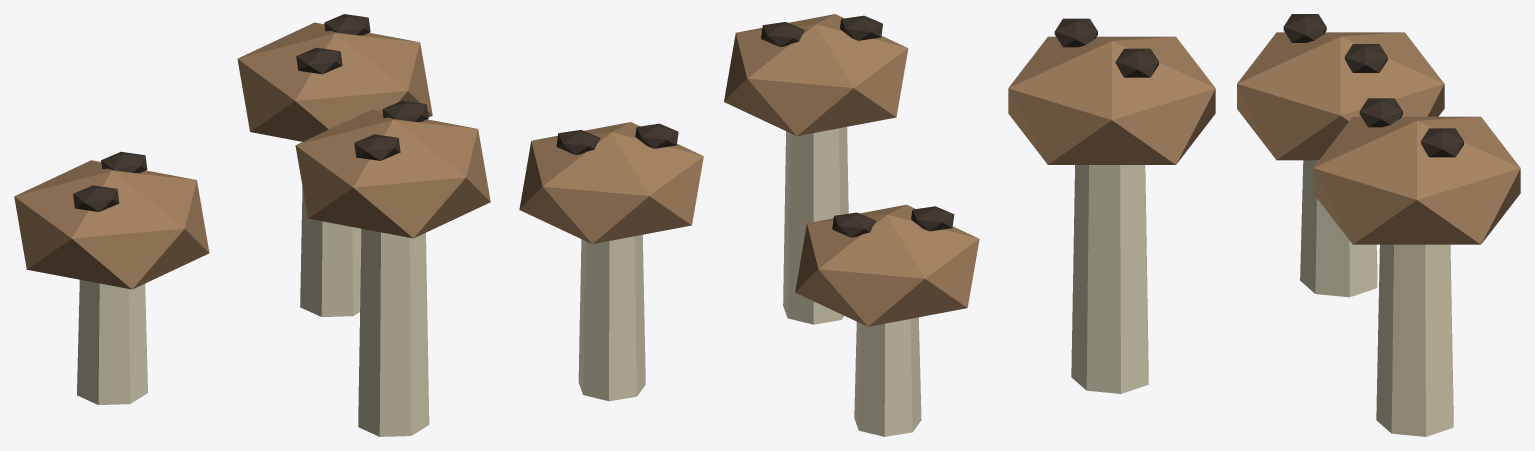
Rendered from CC_CropFungus_Pest.fbx.
3 renders of one model, left to right at view 1: azimuth 30°, elevation 25°; view 2: azimuth 150°, elevation 25°; view 3: azimuth 270°, elevation 25°, orthographic. The views are drawn at different scales.
Parts seen in each view (by area): view 1: Cap.011, Cap.009, Cap.010, Stem.015, Stem.013, Stem.014, Disease spot.004, Disease spot, Disease spot.002, Disease spot.003, Disease spot.005, Disease spot.001; view 2: Cap.009, Cap.010, Cap.011, Stem.014, Stem.015, Stem.013, Disease spot.002, Disease spot, Disease spot.004, Disease spot.001, Disease spot.005, Disease spot.003; view 3: Cap.010, Cap.011, Cap.009, Stem.015, Stem.014, Stem.013, Disease spot.003, Disease spot.005, Disease spot.001, Disease spot.004, Disease spot.002, Disease spot.
Boxes of the visible parts, x1=… form: Cap.011: x1=295, y1=109, x2=490, y2=238; Cap.009: x1=14, y1=160, x2=209, y2=289; Cap.010: x1=237, y1=22, x2=432, y2=141; Stem.015: x1=358, y1=228, x2=429, y2=436; Stem.013: x1=77, y1=280, x2=147, y2=404; Stem.014: x1=300, y1=186, x2=361, y2=316; Disease spot.004: x1=354, y1=134, x2=400, y2=160; Disease spot: x1=73, y1=185, x2=119, y2=211; Disease spot.002: x1=296, y1=47, x2=342, y2=74; Disease spot.003: x1=324, y1=14, x2=370, y2=35; Disease spot.005: x1=382, y1=100, x2=428, y2=121; Disease spot.001: x1=101, y1=151, x2=147, y2=173; Cap.009: x1=795, y1=204, x2=979, y2=326; Cap.010: x1=519, y1=122, x2=703, y2=243; Cap.011: x1=724, y1=14, x2=908, y2=135; Stem.014: x1=578, y1=235, x2=645, y2=401; Stem.015: x1=783, y1=127, x2=848, y2=324; Stem.013: x1=854, y1=317, x2=921, y2=436; Disease spot.002: x1=635, y1=123, x2=678, y2=148; Disease spot: x1=911, y1=206, x2=954, y2=231; Disease spot.004: x1=840, y1=15, x2=882, y2=40; Disease spot.001: x1=832, y1=212, x2=875, y2=237; Disease spot.005: x1=761, y1=22, x2=804, y2=46; Disease spot.003: x1=556, y1=130, x2=600, y2=154; Cap.010: x1=1313, y1=116, x2=1520, y2=244; Cap.011: x1=1008, y1=36, x2=1215, y2=164; Cap.009: x1=1237, y1=32, x2=1444, y2=160; Stem.015: x1=1071, y1=165, x2=1148, y2=393; Stem.014: x1=1376, y1=244, x2=1453, y2=436; Stem.013: x1=1300, y1=160, x2=1377, y2=297; Disease spot.003: x1=1420, y1=128, x2=1463, y2=157; Disease spot.005: x1=1115, y1=48, x2=1158, y2=77; Disease spot.001: x1=1344, y1=44, x2=1387, y2=72; Disease spot.004: x1=1054, y1=18, x2=1097, y2=47; Disease spot.002: x1=1359, y1=98, x2=1402, y2=127; Disease spot: x1=1283, y1=14, x2=1326, y2=42.
Size of the model in its own units: 1.62 by 1.1 by 1.51.
